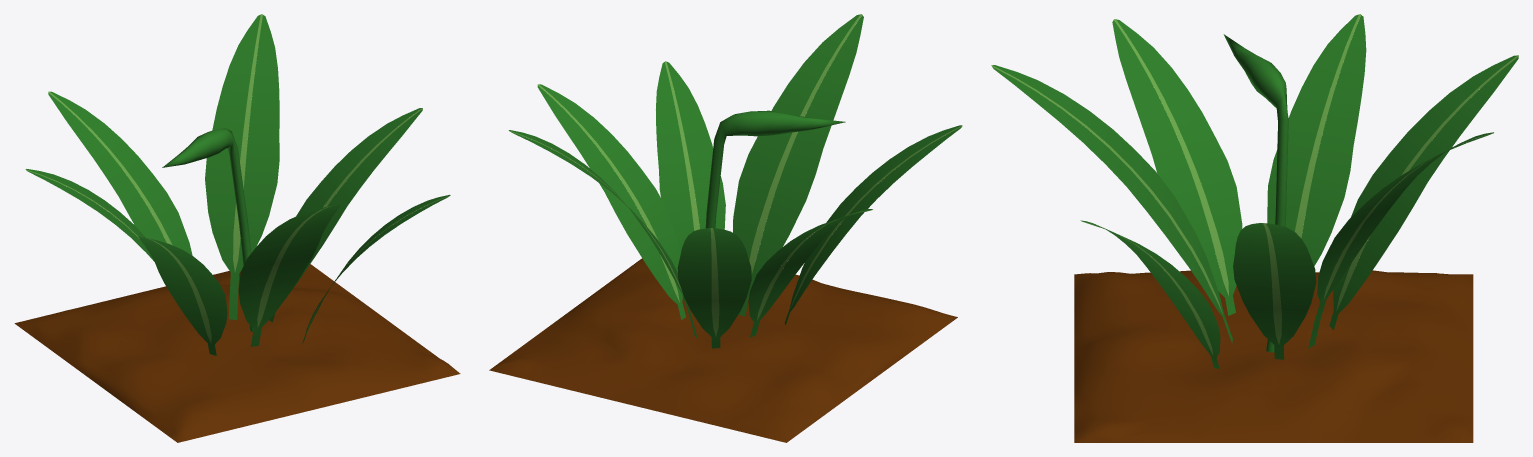
The model's file is bird-of-paradise-p1-bloom.glb.
The picture shows the model from 3 angles, left to right: view 1: azimuth 30°, elevation 25°; view 2: azimuth 150°, elevation 25°; view 3: azimuth 270°, elevation 25°; orthographic projection. The views are drawn at different scales.
Parts seen in each view (by area): view 1: 1_nft_bloom; view 2: 1_nft_bloom; view 3: 1_nft_bloom.
Boxes of the visible parts, box(x1,y1,x2,y2) form: 1_nft_bloom: box(14, 14, 460, 442); 1_nft_bloom: box(489, 14, 962, 442); 1_nft_bloom: box(991, 14, 1518, 442).
Size of the model in its own units: 0.8853 by 0.5687 by 0.9263.
